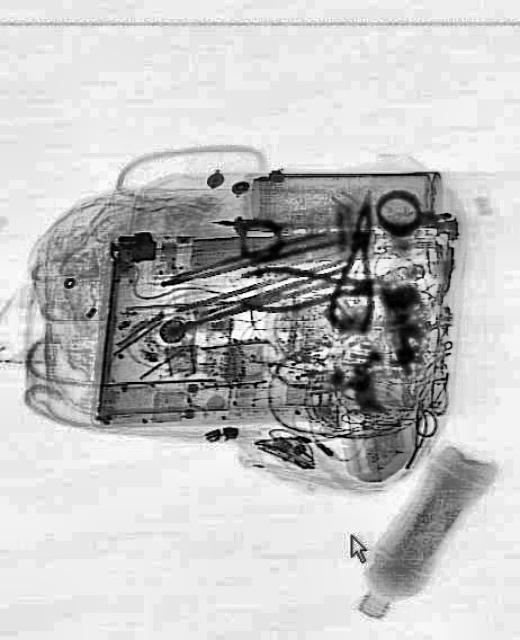Pliers: (322, 186, 390, 334), (241, 264, 377, 310)
